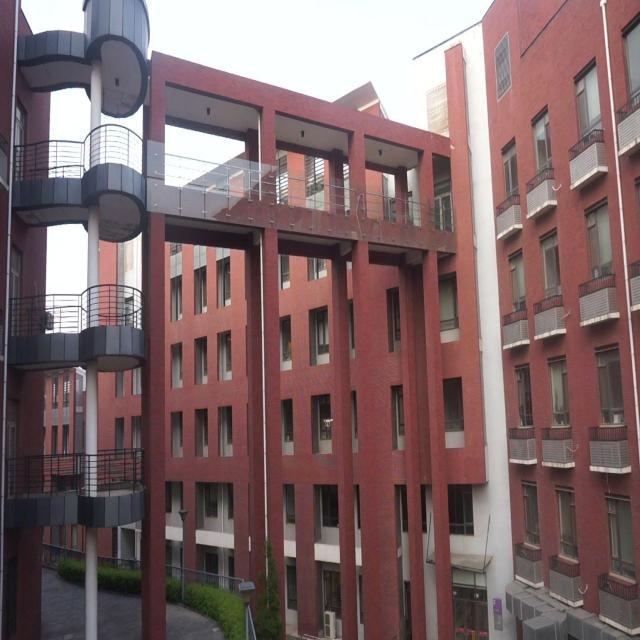drone: (322, 411, 336, 434)
